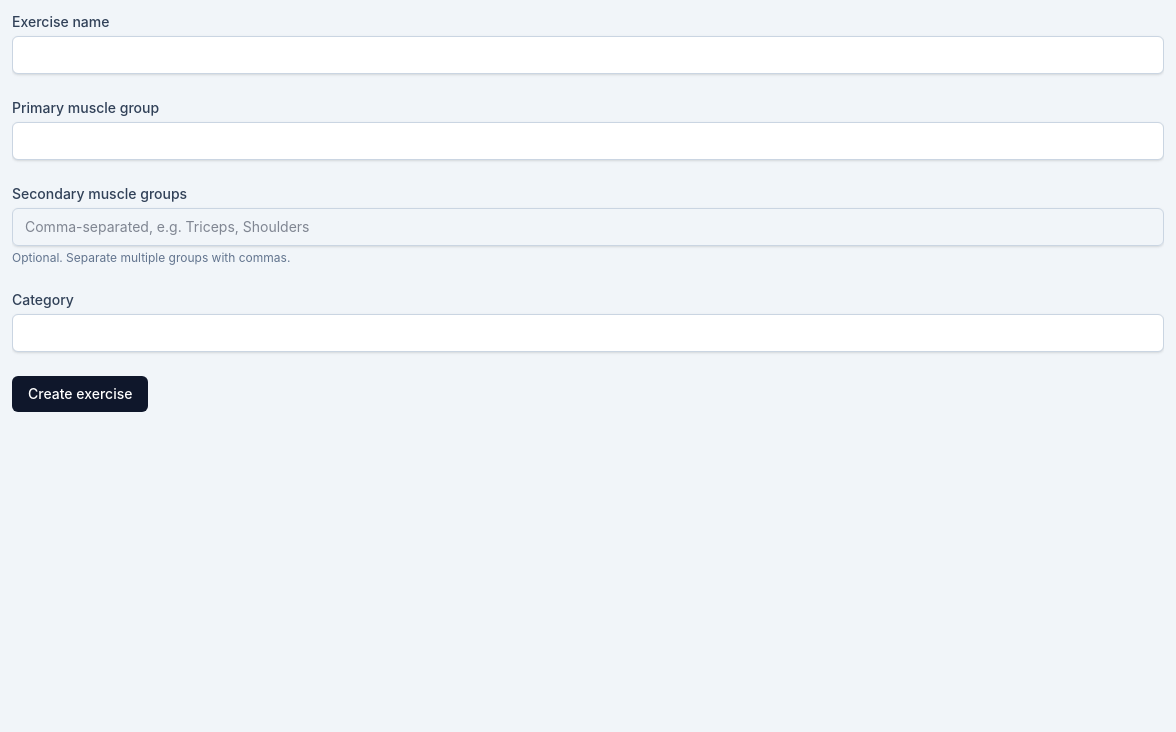
Test: ExerciseForm › displays backend field errors
Type "Bad Name" into the field labelled "Exercise name" at (588, 55), box [12,36,1164,74]
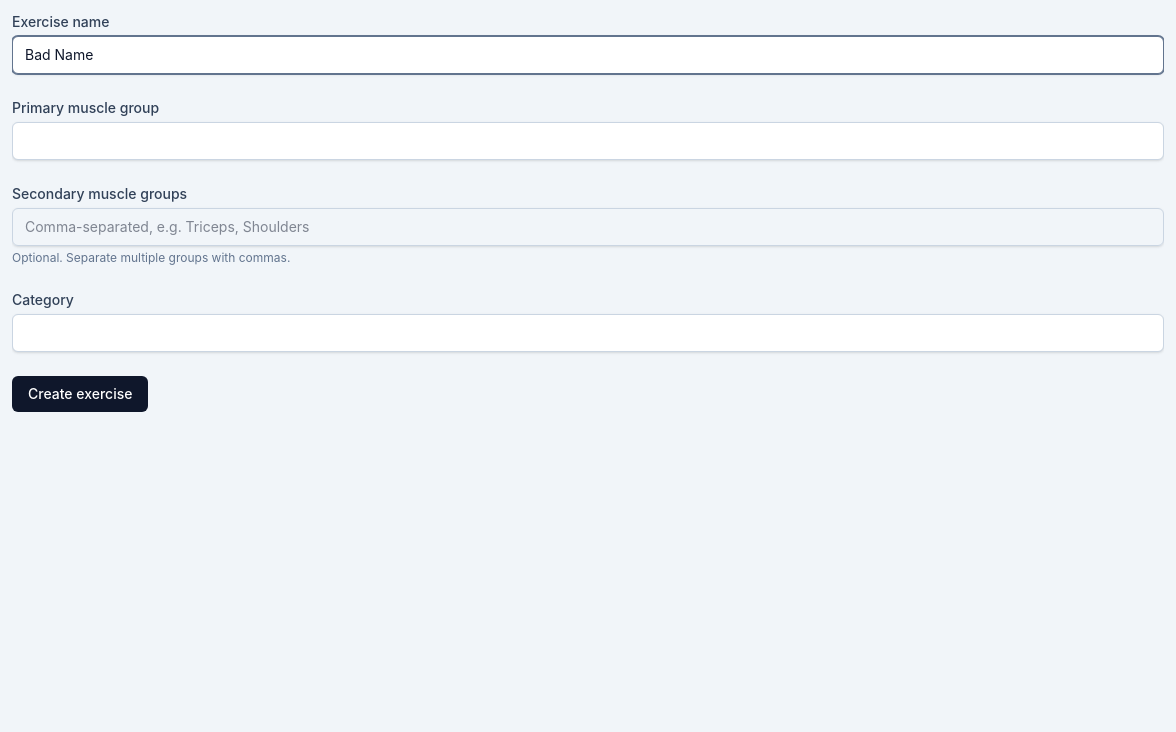
Type "Chest" into the field labelled "Primary muscle group" at (588, 141), box [12,122,1164,160]
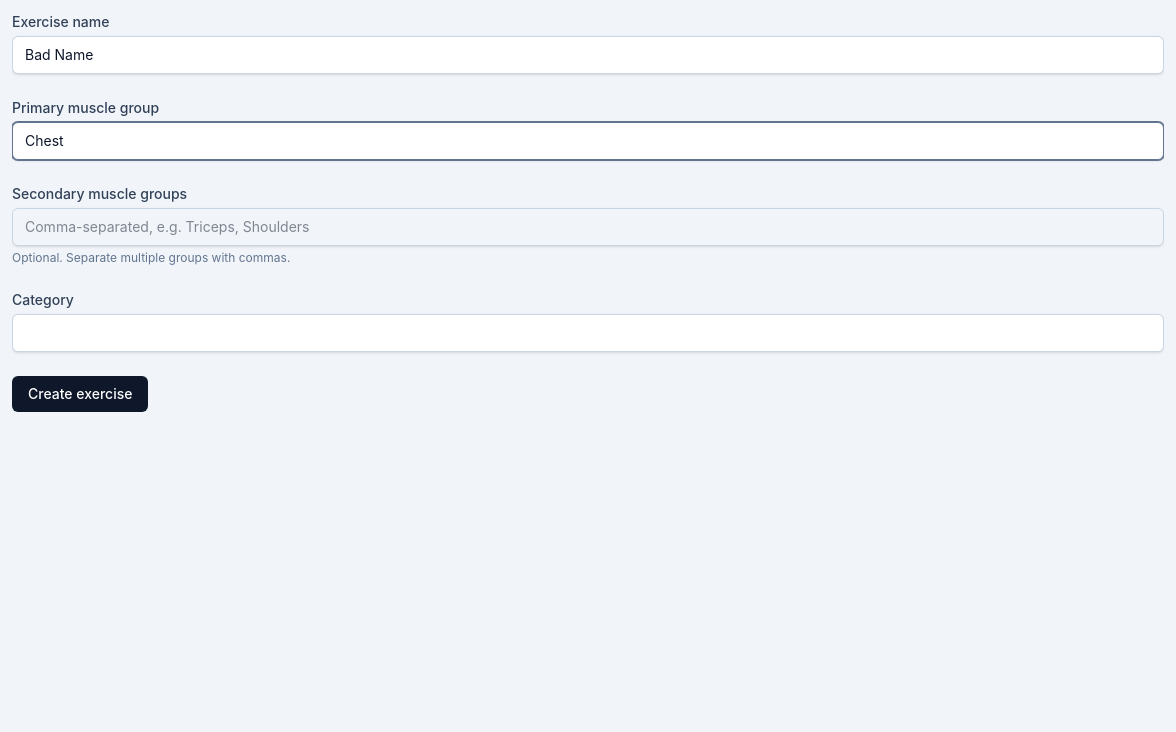
Type "Cable" into the field labelled "Category" at (588, 333), box [12,314,1164,352]
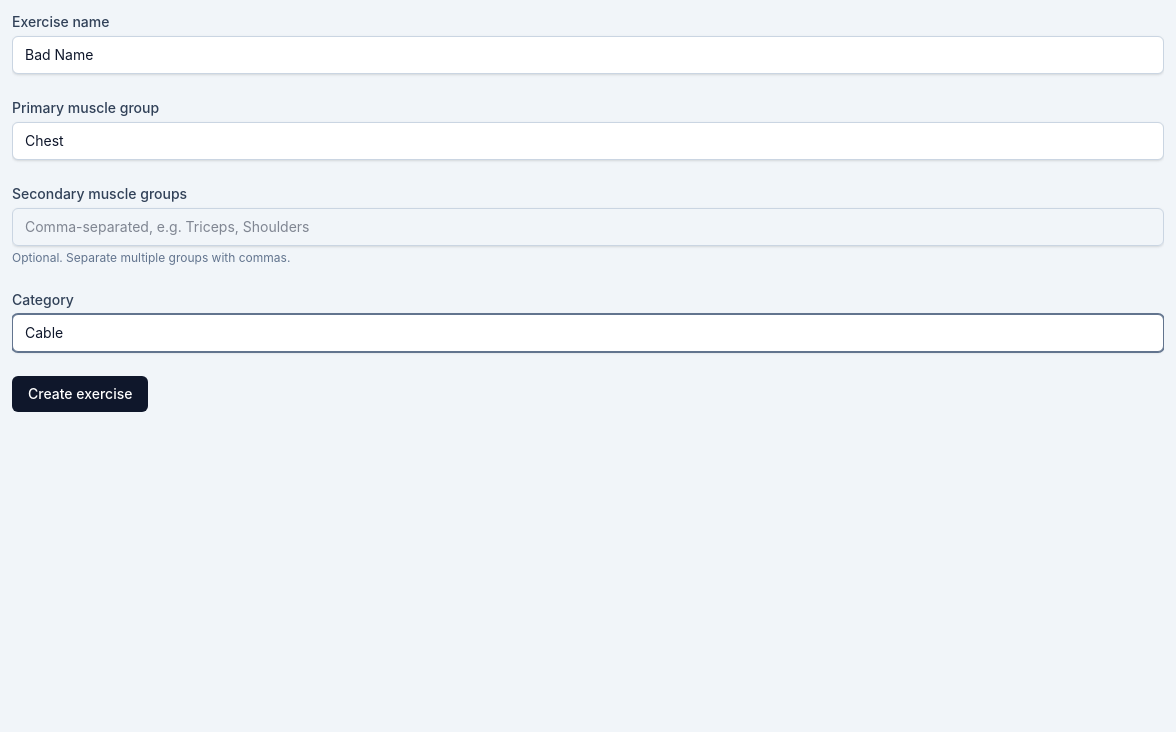
Click the button "Create exercise" at (80, 394), box [12,376,148,412]
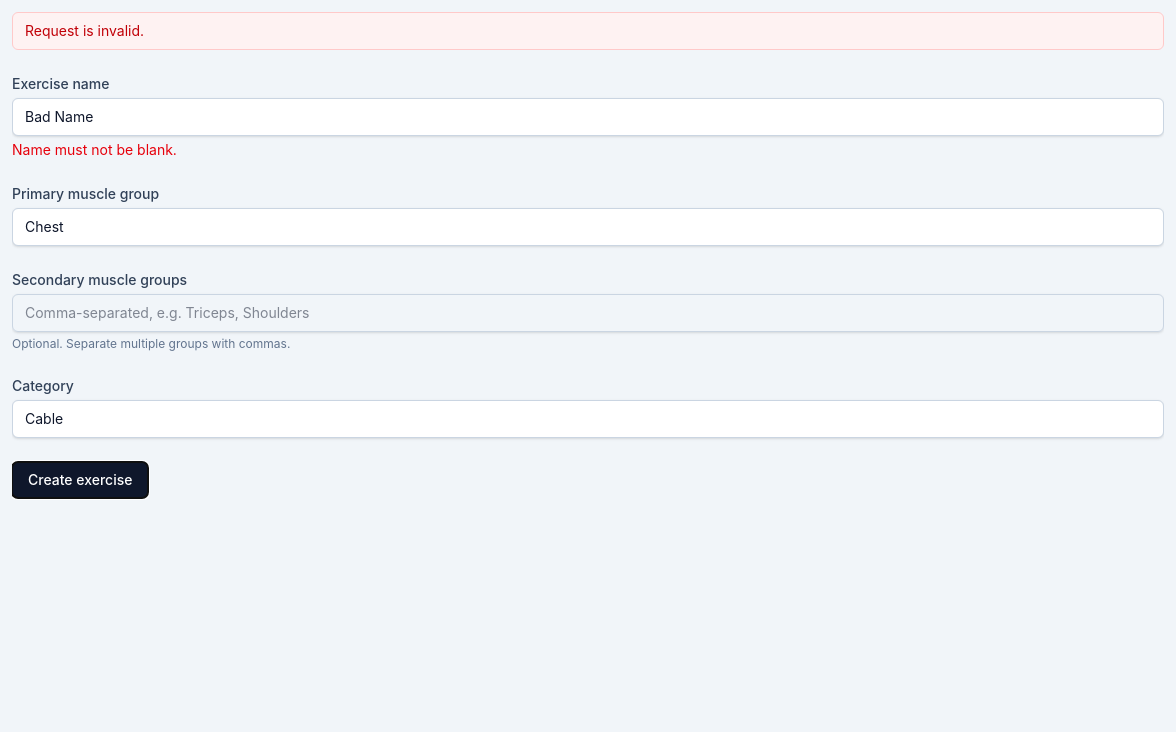
Check: the text "Name must not be blank." is shown, box [12,141,177,158]
